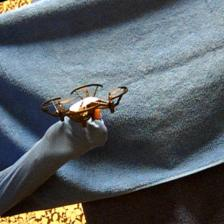drone: (41, 83, 133, 127)
